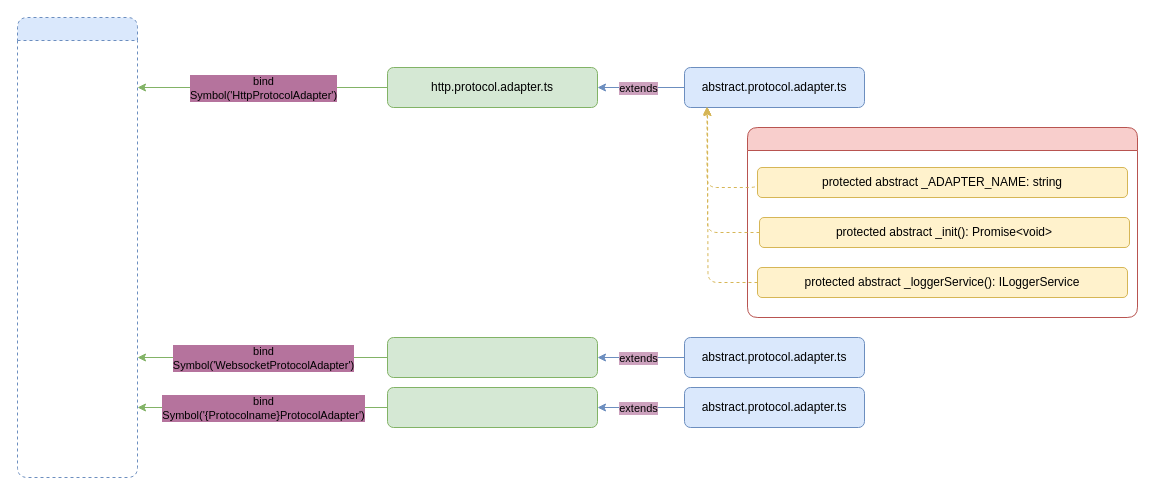
The diagram is 1155 pixels wide and 495 high, and some of its shapes have lost their labels. The box of each missing label's shape, as (x1, y1, x2, y2) in pixels:
ioc.core.ts: (16, 16, 138, 478)
methods and properties: (746, 126, 1138, 318)
web-socket.protocol.adapter.ts: (386, 336, 598, 378)
{protocol-name}.protocol.adapter.ts: (386, 386, 598, 428)
